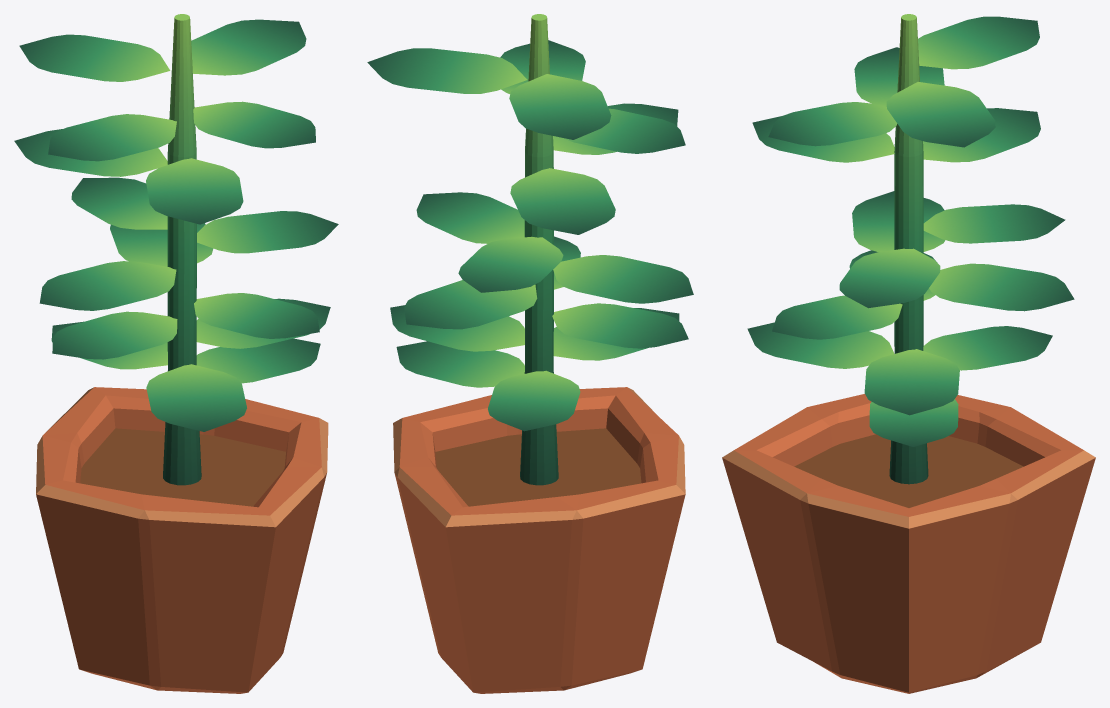
The model's file is Props_Plant_02.fbx.
The picture shows the model from 3 angles, left to right: view 1: azimuth 30°, elevation 25°; view 2: azimuth 150°, elevation 25°; view 3: azimuth 270°, elevation 25°; orthographic projection.
Parts seen in each view (by area): view 1: Props_Plant_02; view 2: Props_Plant_02; view 3: Props_Plant_02.
Part boxes in pixels (x1,y1,x2,y2): Props_Plant_02: [14, 14, 338, 693]; Props_Plant_02: [367, 14, 693, 693]; Props_Plant_02: [722, 14, 1095, 693].
Size of the model in its own units: 53.48 by 109 by 58.38.
